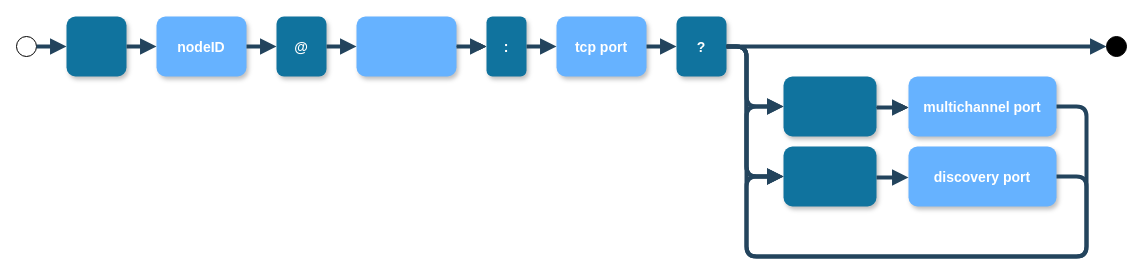
Image size: 1143x273. Some labels were removed from this diagram. The centre of each missing label's shape, as x and y in pixels:
"discport=" goes at [830,177].
"hostname" goes at [407,47].
"kni://" goes at [97,47].
"subport=" goes at [830,107].
